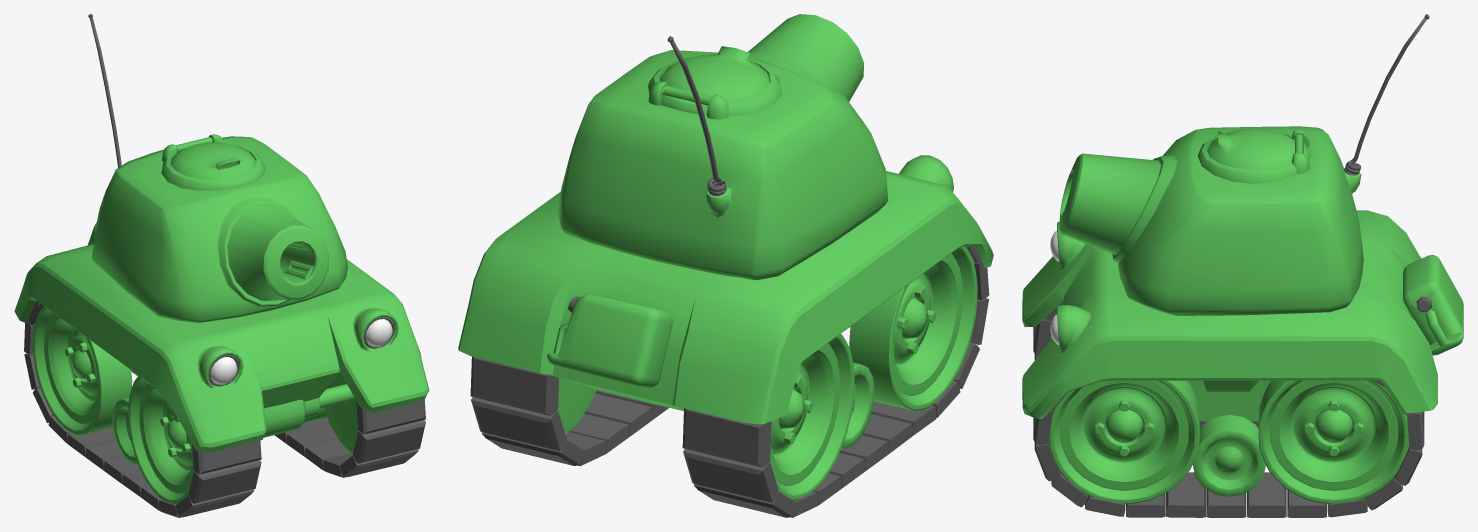
The picture shows the model from 3 angles, left to right: view 1: azimuth 30°, elevation 25°; view 2: azimuth 150°, elevation 25°; view 3: azimuth 270°, elevation 25°; orthographic projection. The views are drawn at different scales.
Visible parts, largest first — view 1: TankChassis, TankTurret, TankTracksRight, TankTracksLeft; view 2: TankChassis, TankTurret, TankTracksRight, TankTracksLeft; view 3: TankChassis, TankTurret, TankTracksLeft, TankTracksRight.
Boxes of the visible parts, x1=… form: TankChassis: x1=14, y1=223, x2=429, y2=464; TankTurret: x1=88, y1=14, x2=347, y2=322; TankTracksRight: x1=24, y1=301, x2=261, y2=517; TankTracksLeft: x1=274, y1=372, x2=425, y2=477; TankChassis: x1=458, y1=155, x2=993, y2=448; TankTurret: x1=558, y1=14, x2=888, y2=280; TankTracksRight: x1=682, y1=246, x2=989, y2=517; TankTracksLeft: x1=470, y1=356, x2=668, y2=466; TankChassis: x1=1022, y1=210, x2=1463, y2=496; TankTurret: x1=1059, y1=14, x2=1429, y2=315; TankTracksLeft: x1=1033, y1=380, x2=1424, y2=517; TankTracksRight: x1=1033, y1=302, x2=1258, y2=428.
Size of the model in its own units: 170 by 249 by 237.
